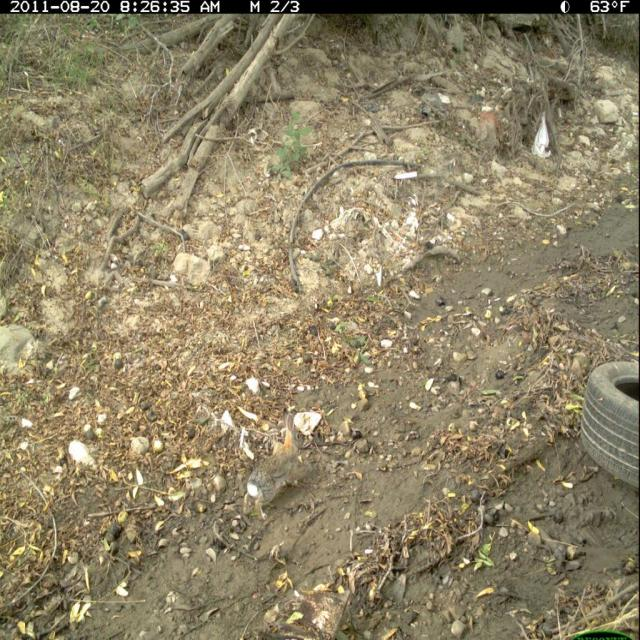rabbit: (238, 403, 330, 526)
